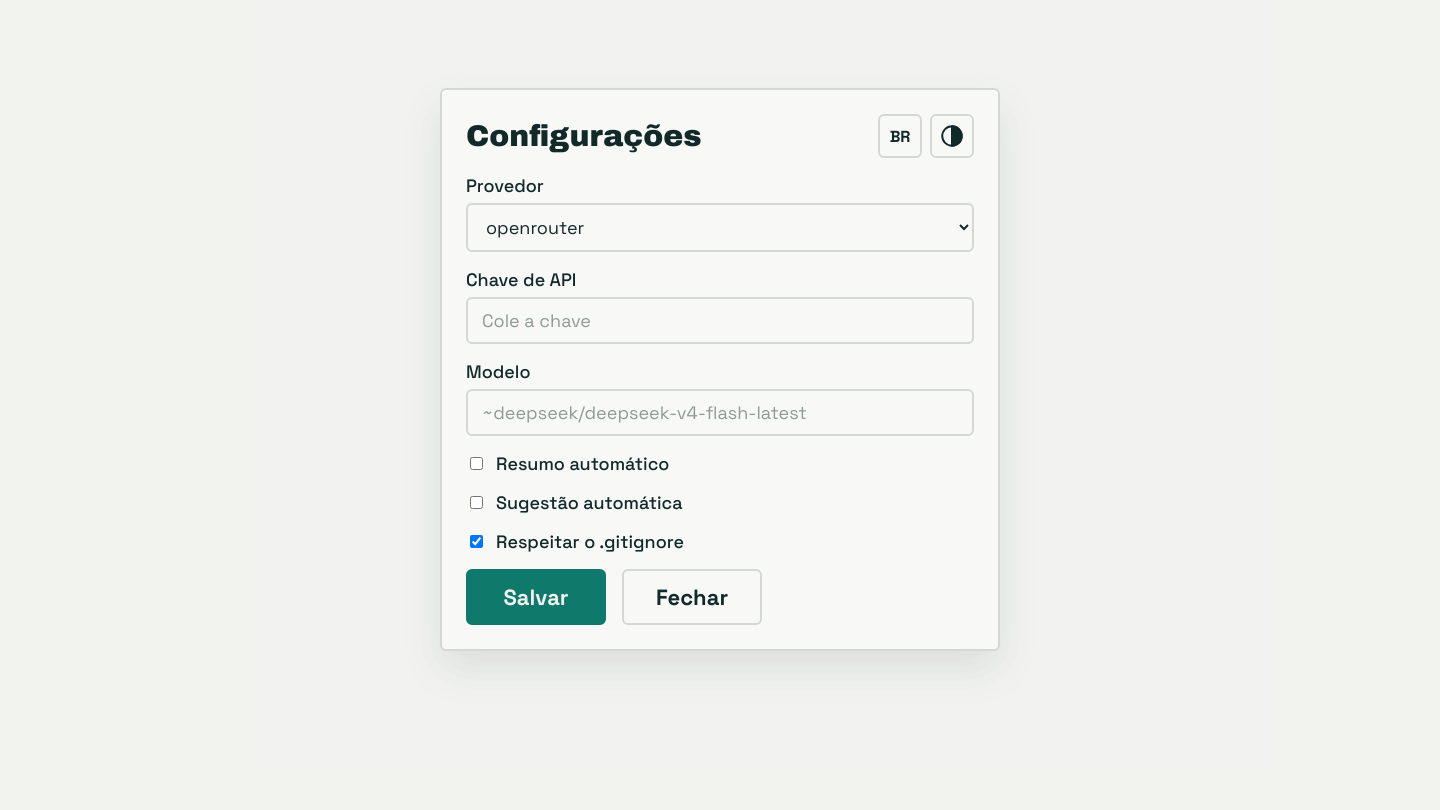
SettingsDialog fields (CFG-20) › sends the typed model, trimmed
The width and height of the screenshot is (1440, 810).
In the field labelled "Modelo": coordinates (720, 412) [466, 389, 974, 436], type " z/novo "
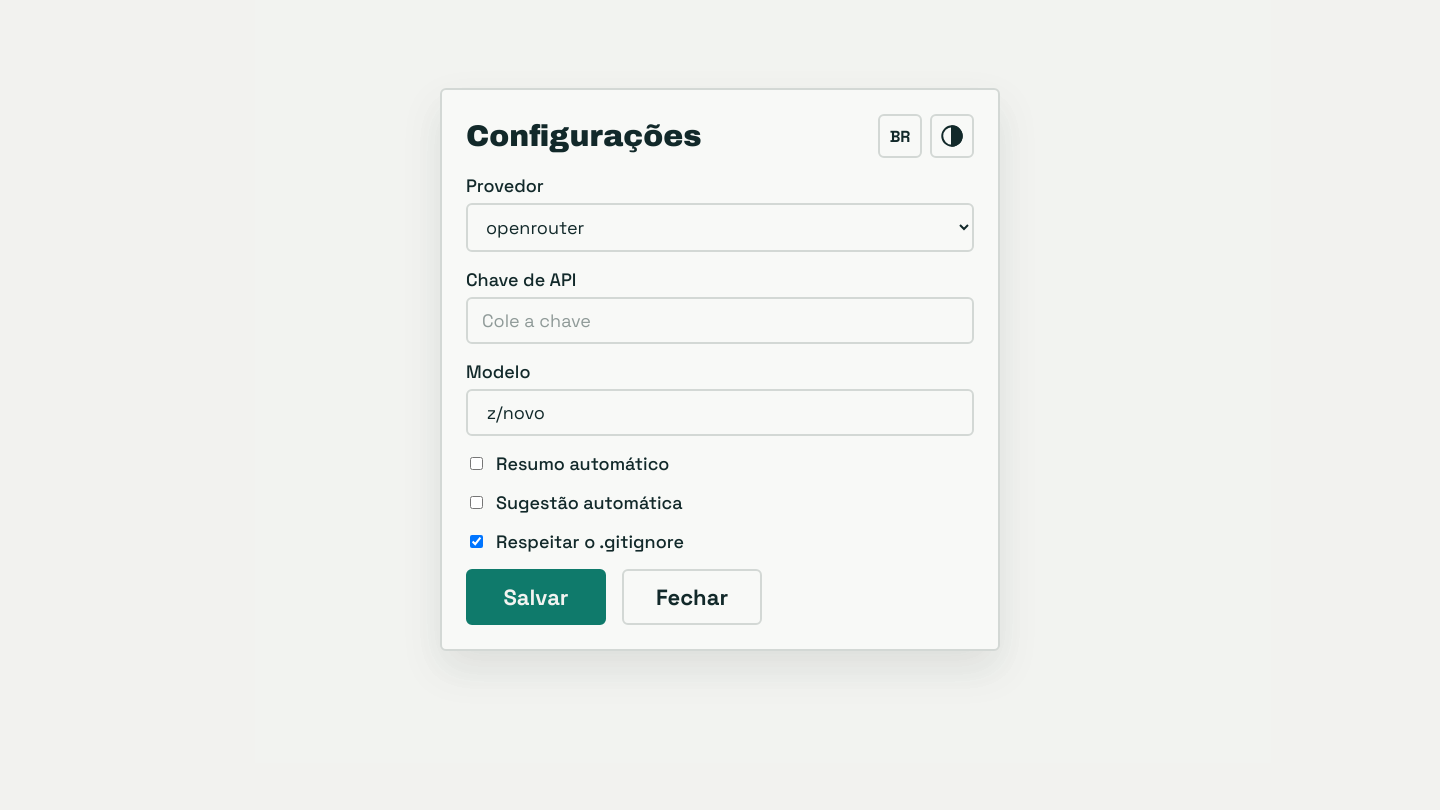
Click the button "Salvar": coordinates (536, 597) [466, 569, 606, 625]
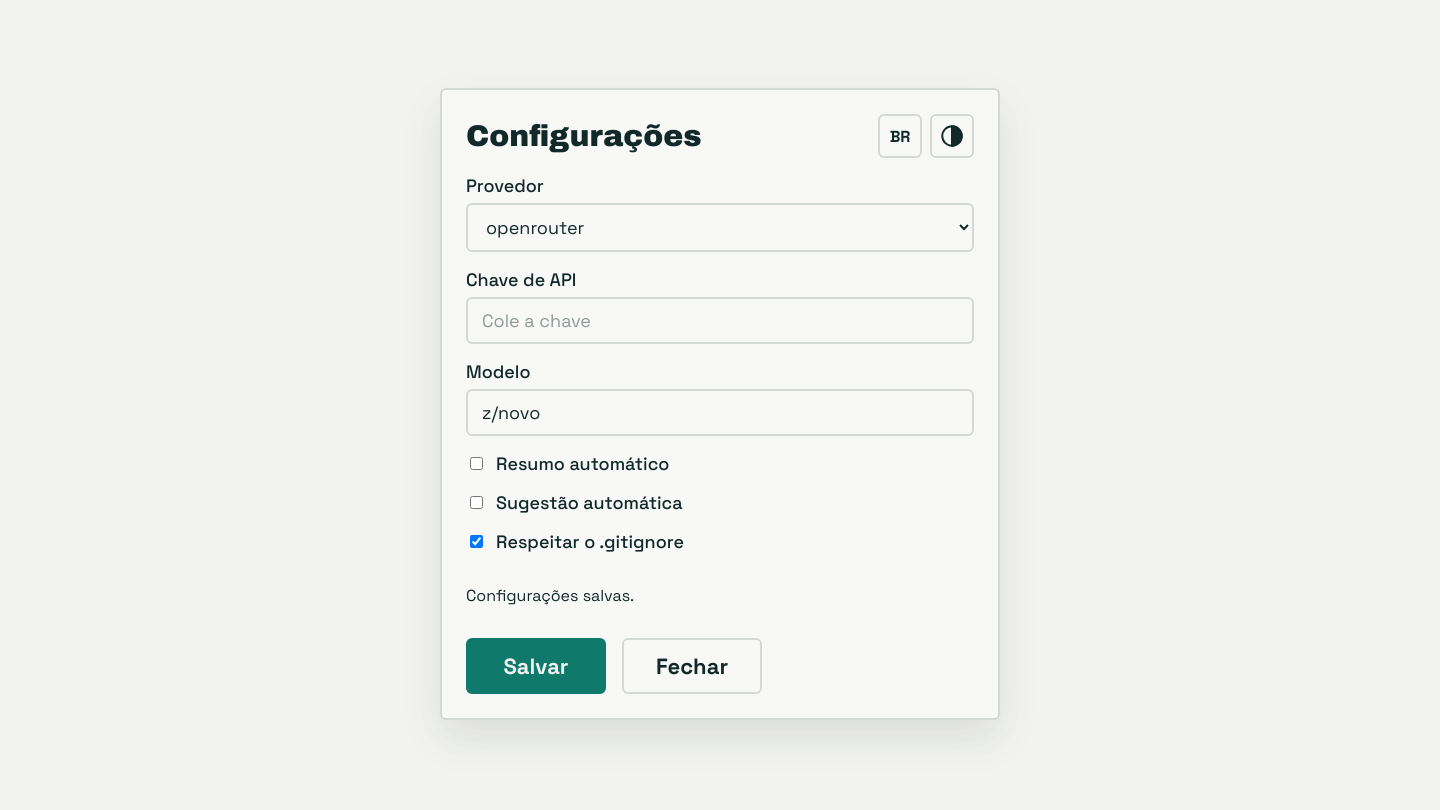
Expected: the text "Configurações salvas." is shown, [466, 585, 634, 606]
